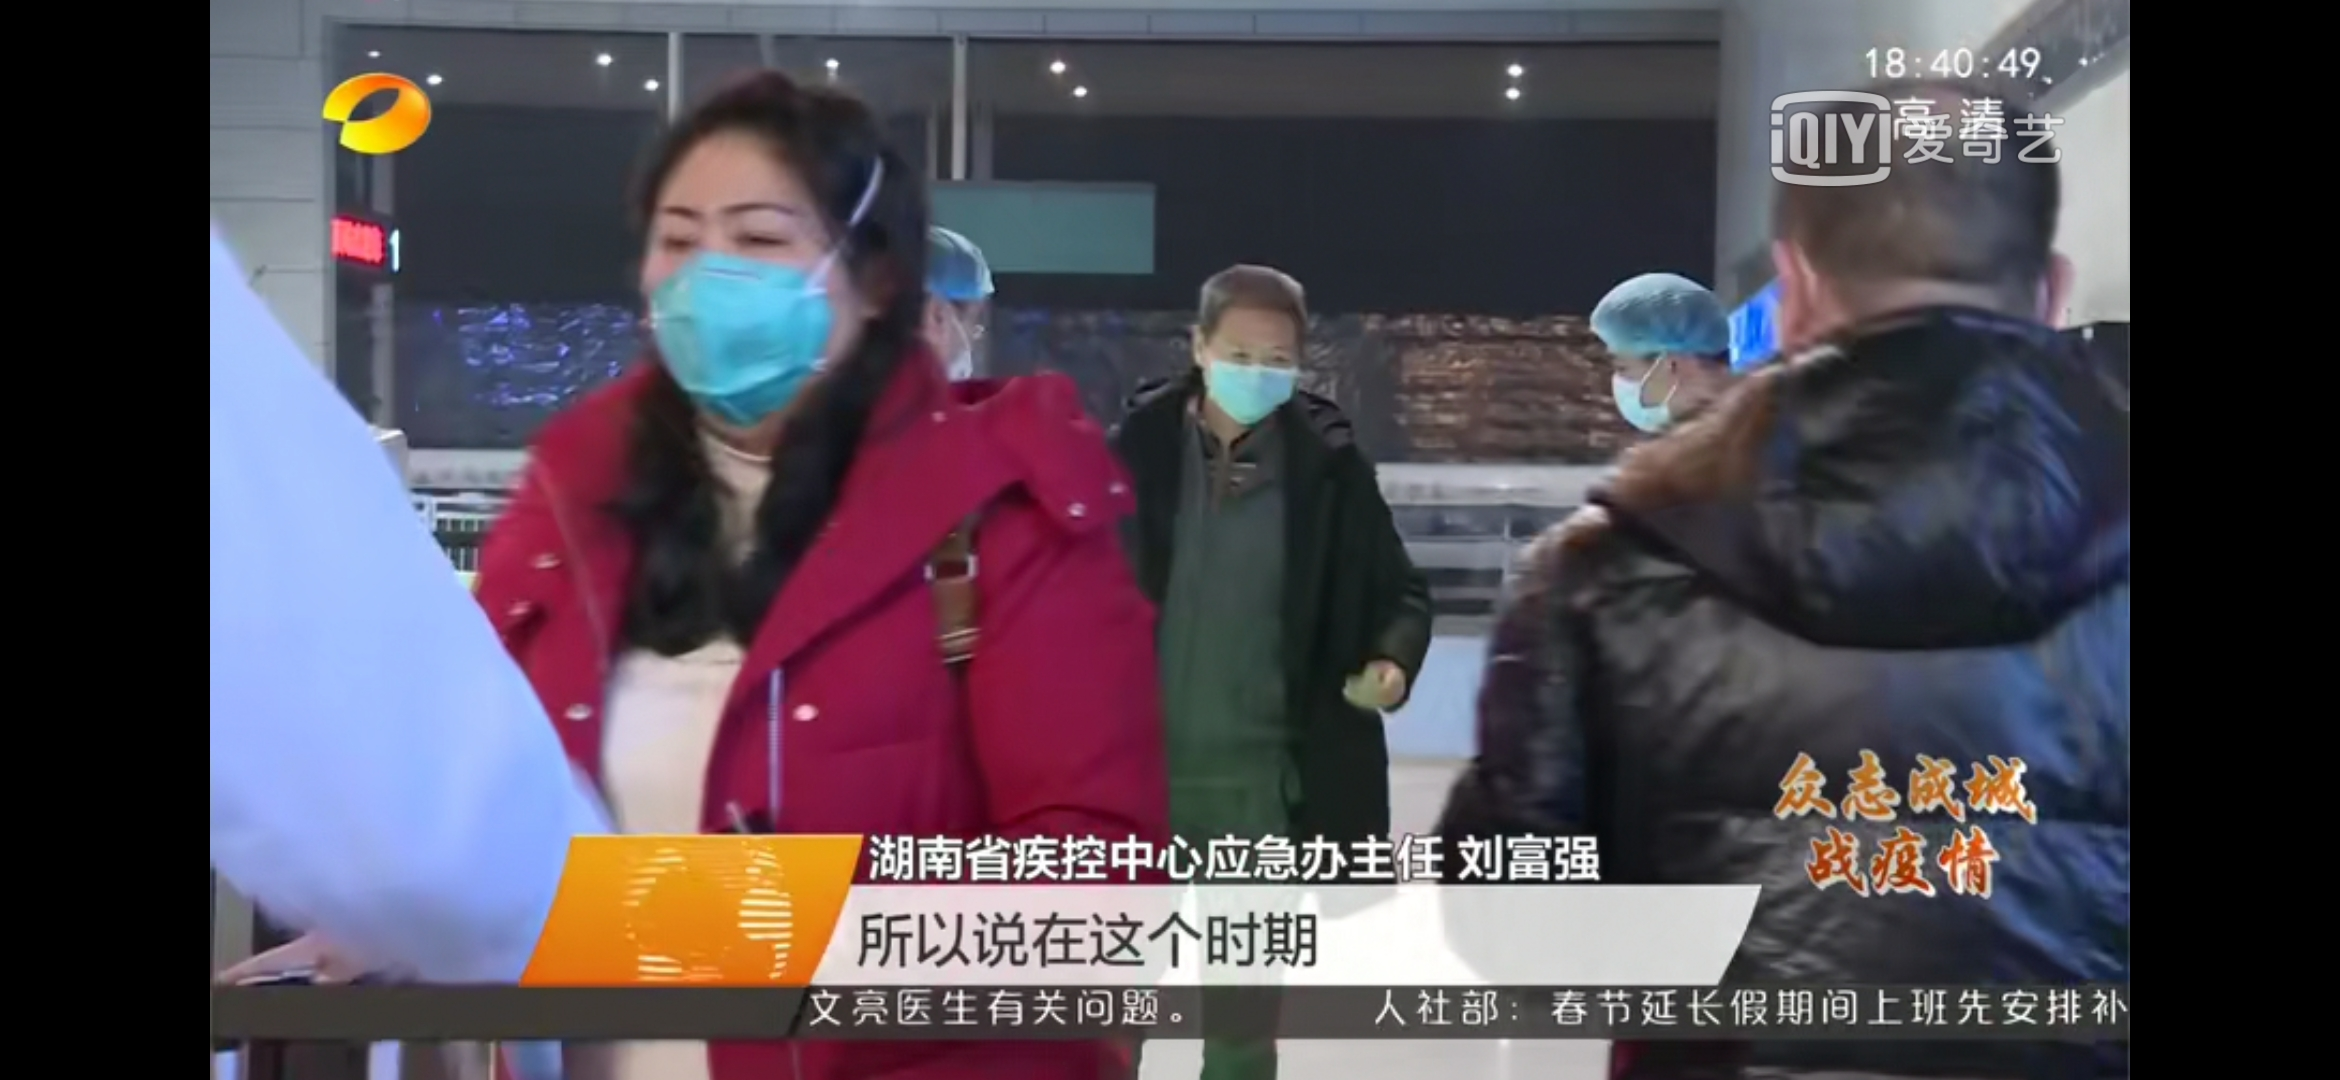correctlyWear: (642, 175, 843, 403), (1192, 307, 1301, 422), (1604, 322, 1689, 436), (919, 274, 995, 392)
